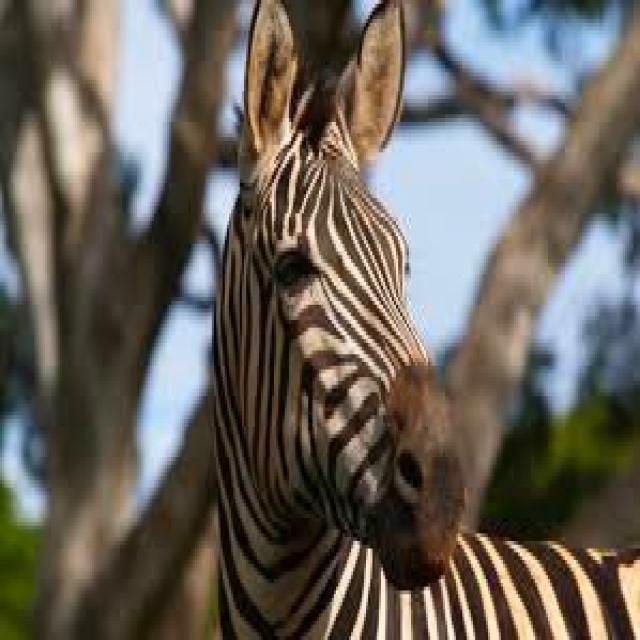zebra: (214, 0, 638, 636)
